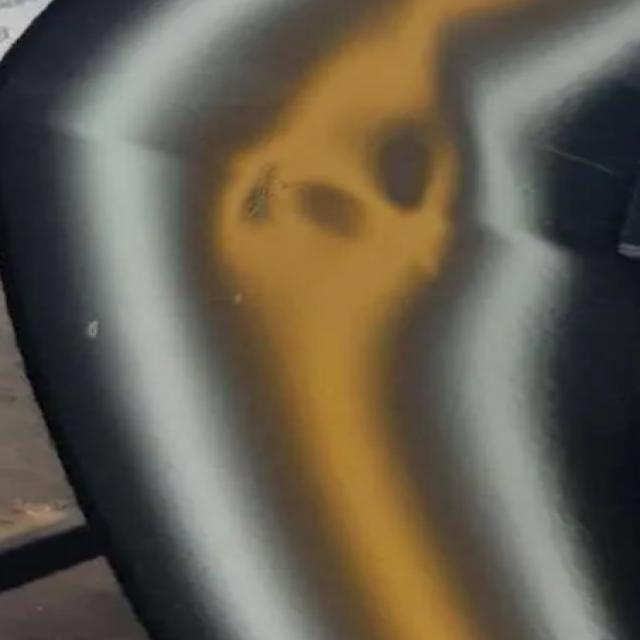dents: (185, 80, 516, 300)
